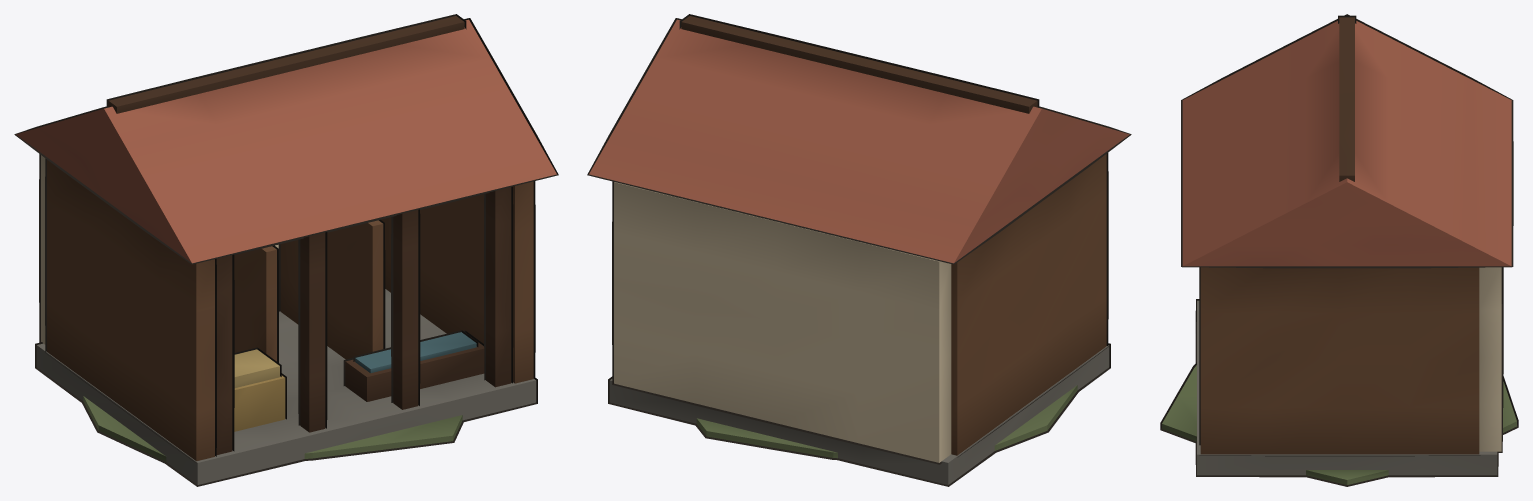
Rendered from ecurie.glb.
3 renders of one model, left to right at view 1: azimuth 30°, elevation 25°; view 2: azimuth 150°, elevation 25°; view 3: azimuth 270°, elevation 25°, orthographic. The views are drawn at different scales.
Parts seen in each view (by area): view 1: ecurie, ecurie_outline; view 2: ecurie, ecurie_outline; view 3: ecurie, ecurie_outline.
Boxes of the visible parts, x1=… form: ecurie: x1=16, y1=16, x2=556, y2=484; ecurie_outline: x1=14, y1=14, x2=558, y2=486; ecurie: x1=589, y1=16, x2=1129, y2=484; ecurie_outline: x1=587, y1=14, x2=1131, y2=486; ecurie: x1=1162, y1=17, x2=1516, y2=484; ecurie_outline: x1=1160, y1=14, x2=1518, y2=486.
Size of the model in its own units: 2.88 by 2.35 by 2.51.
